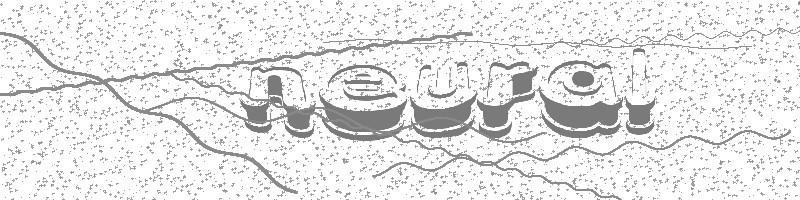a: (534, 54, 625, 134)
e: (317, 58, 408, 138)
l: (625, 43, 660, 136)
n: (236, 59, 319, 137)
r: (478, 55, 539, 139)
u: (409, 58, 478, 133)
